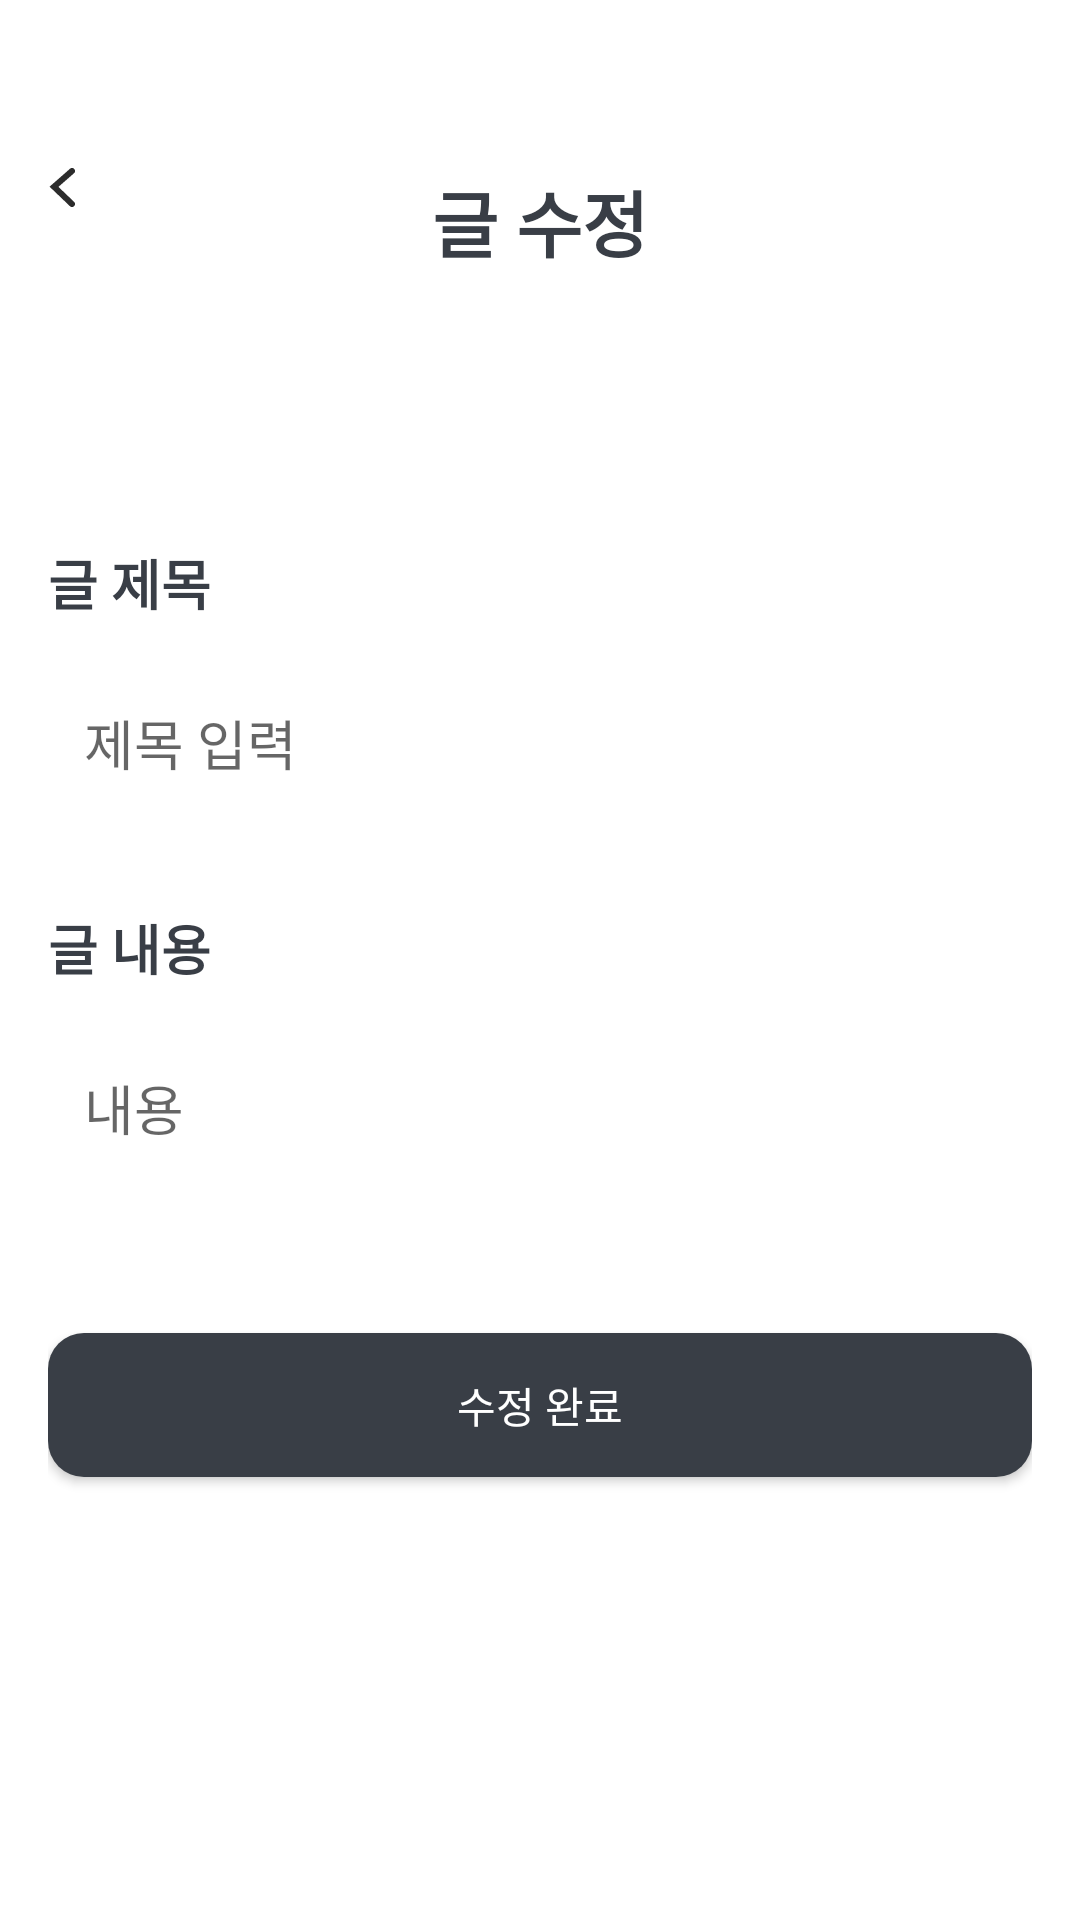

Icon click points for this 1080 x 1920 phone screenshot, format (x,y):
arrow: (62,187)
